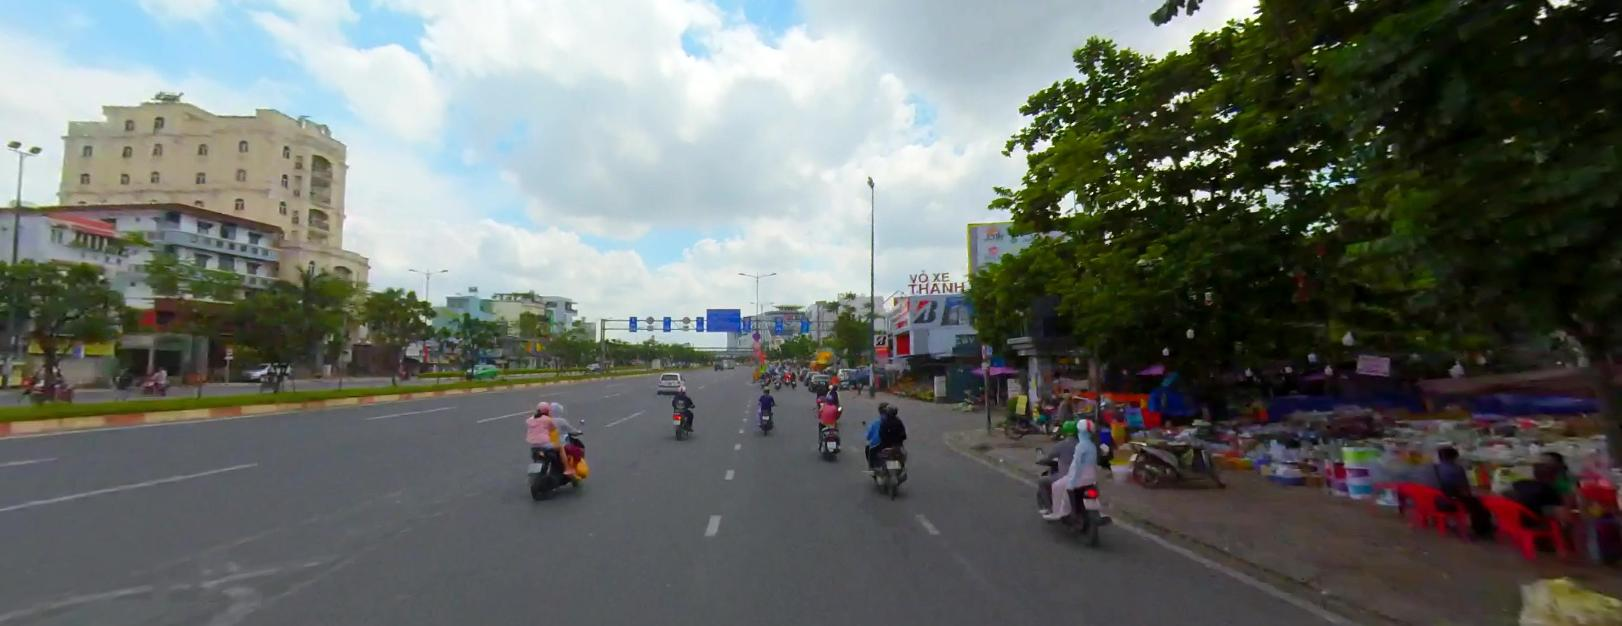Cam con lai: (752, 339, 759, 347)
Cam dung va do: (752, 331, 761, 339)
